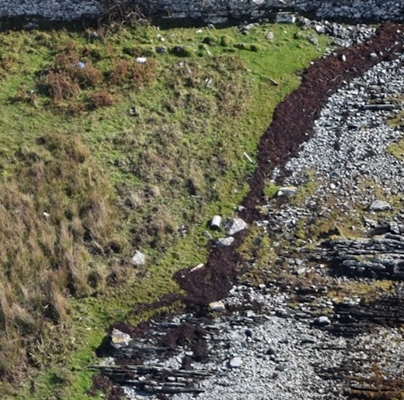white_in_green: (195, 199, 239, 240), (63, 46, 101, 81), (122, 42, 159, 76)
